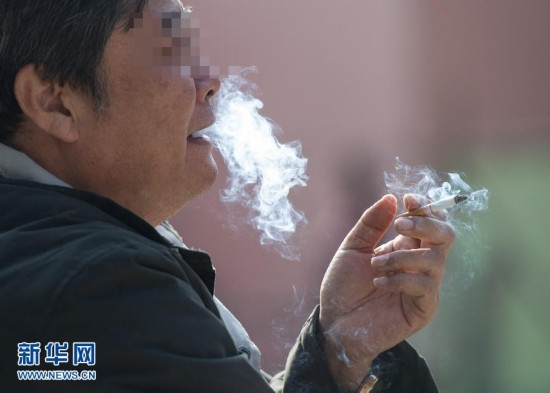yanwu: (217, 73, 313, 250)
